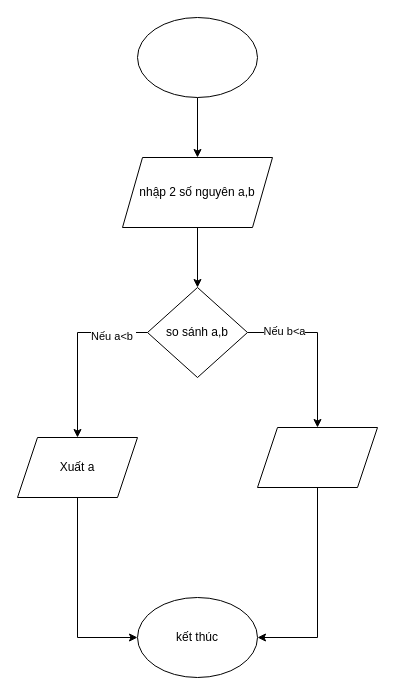
Some shapes in this 395 by 695 pixel diagram are drawn without their labels. Here are the shapes that lost their labels. From the top down, the box of each, then its label:
(136, 16, 258, 98): Bắt đầu
(256, 426, 378, 488): Xuất b
